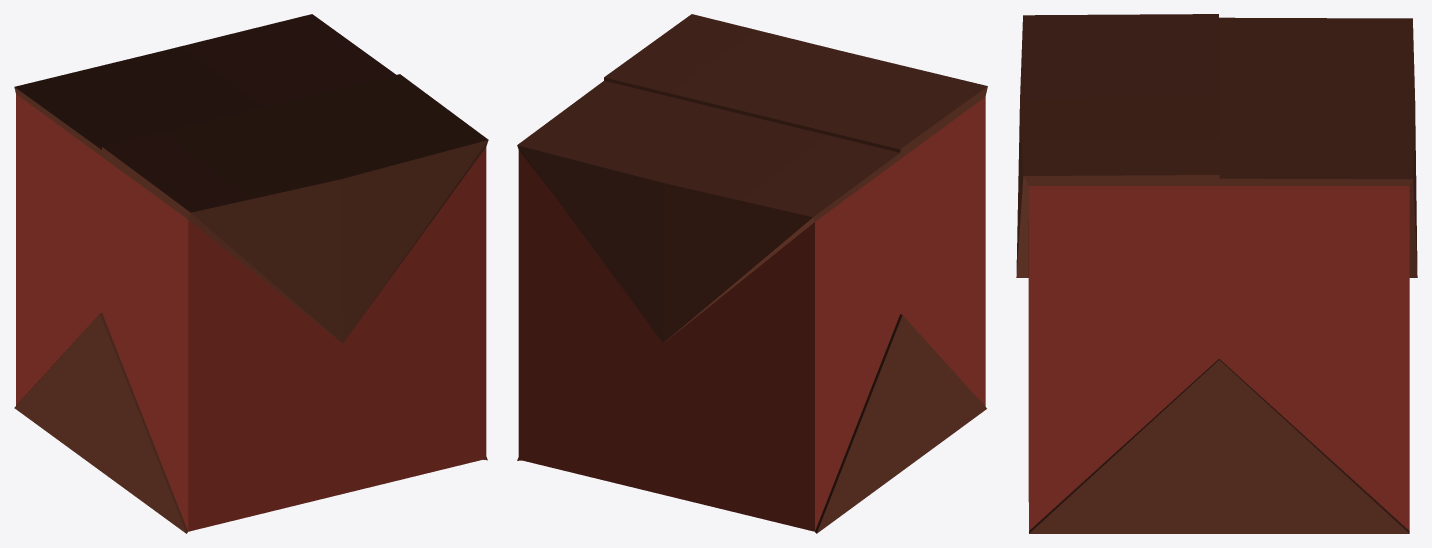
Rendered from Paper Box 3.fbx.
3 views of the same model, side by side, from view 1: azimuth 30°, elevation 25°; view 2: azimuth 150°, elevation 25°; view 3: azimuth 270°, elevation 25° (orthographic). The views are drawn at different scales.
Parts seen in each view (by area): view 1: Paper Box; view 2: Paper Box; view 3: Paper Box.
Boxes of the visible parts, <box> form: Paper Box: <box>14,14,488,533</box>; Paper Box: <box>517,14,987,533</box>; Paper Box: <box>1016,14,1417,533</box>.
Bounding box in the file's own units: 0.3295 × 0.3254 × 0.3179.
